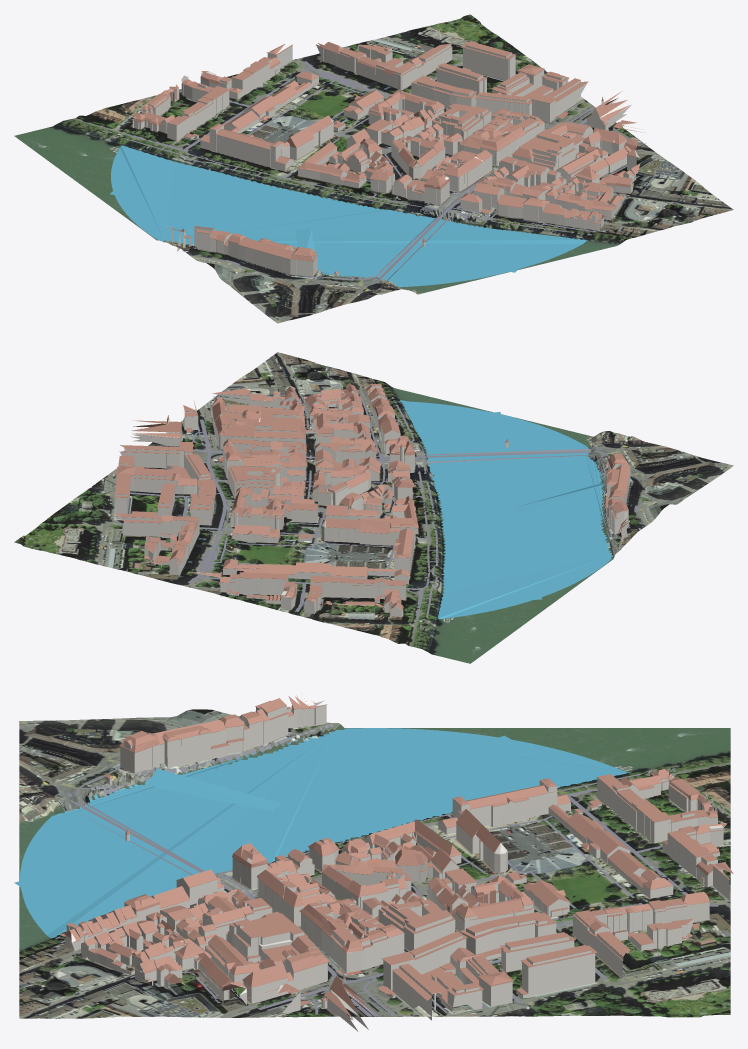
The model's file is context_neighborhood.glb.
3 renders of one model, top to bottom at view 1: azimuth 30°, elevation 25°; view 2: azimuth 150°, elevation 25°; view 3: azimuth 270°, elevation 25°, orthographic. The views are drawn at different scales.
Visible parts, largest first — view 1: terrain_ground, neighborhood_buildings_walls, neighborhood_buildings_roofs, osm_water_pools, osm_roads; view 2: terrain_ground, osm_water_pools, neighborhood_buildings_roofs, neighborhood_buildings_walls, osm_roads; view 3: terrain_ground, osm_water_pools, neighborhood_buildings_walls, neighborhood_buildings_roofs, osm_roads.
Boxes of the visible parts, box(x1,y1,x2,y2) form: terrain_ground: box(14, 14, 733, 323); neighborhood_buildings_walls: box(131, 43, 644, 276); neighborhood_buildings_roofs: box(132, 41, 645, 274); osm_water_pools: box(110, 145, 587, 287); osm_roads: box(124, 61, 629, 280); terrain_ground: box(14, 352, 733, 663); osm_water_pools: box(309, 400, 631, 618); neighborhood_buildings_roofs: box(113, 383, 630, 617); neighborhood_buildings_walls: box(113, 384, 630, 617); osm_roads: box(112, 396, 638, 618); terrain_ground: box(19, 709, 730, 1018); osm_water_pools: box(14, 728, 629, 938); neighborhood_buildings_walls: box(65, 700, 731, 1031); neighborhood_buildings_roofs: box(60, 695, 733, 1019); osm_roads: box(55, 723, 718, 1016).
Size of the model in its own units: 587 by 48.5 by 567.
Materials: 2 (2 with a texture image).
